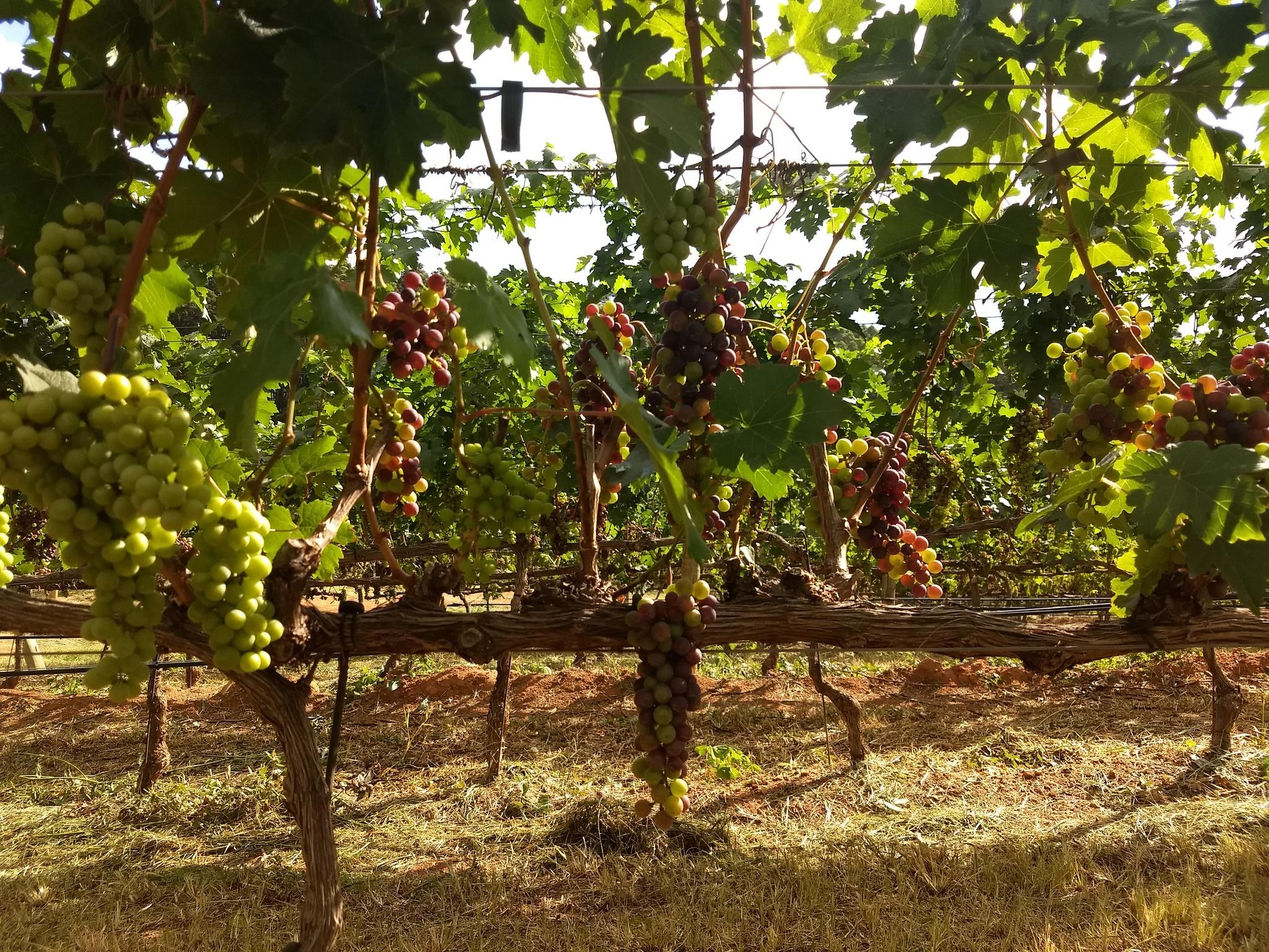Grape Unripe: (0, 368, 179, 709), (75, 381, 251, 530), (189, 496, 303, 687), (1035, 300, 1162, 468), (33, 198, 148, 376), (454, 439, 557, 543), (632, 183, 722, 273)
